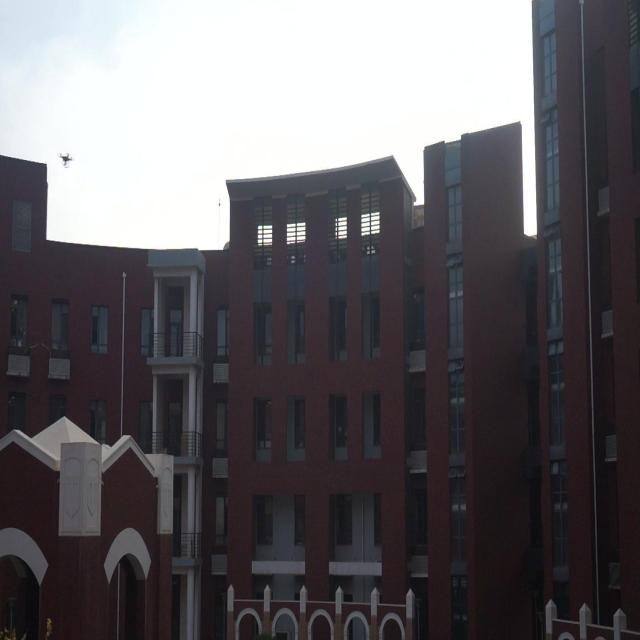drone: (55, 148, 75, 172)
